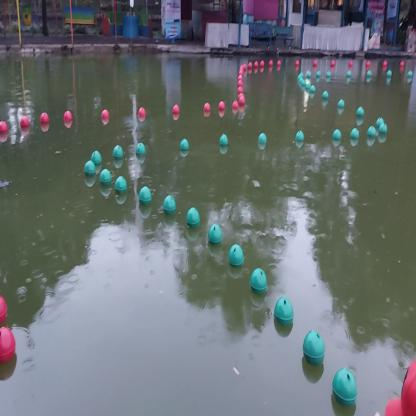green_buoy: (328, 361, 360, 411), (302, 328, 325, 365), (273, 292, 295, 330), (248, 264, 270, 298), (185, 201, 202, 229), (161, 191, 177, 220), (207, 224, 226, 248), (230, 242, 244, 274), (136, 180, 152, 205), (114, 173, 128, 198), (82, 156, 95, 180), (254, 130, 270, 149), (98, 167, 113, 187), (377, 120, 391, 139), (216, 131, 230, 149), (112, 141, 124, 162), (90, 146, 102, 167), (135, 141, 148, 159), (374, 110, 386, 129), (294, 126, 305, 146), (350, 124, 360, 142), (179, 137, 190, 153), (368, 122, 376, 141), (356, 105, 366, 120), (334, 126, 341, 147), (322, 88, 330, 102), (339, 96, 345, 108)
red_buoy: (0, 327, 19, 364), (0, 284, 10, 326), (0, 115, 11, 140), (38, 107, 50, 128), (20, 112, 30, 135), (99, 107, 111, 123), (63, 108, 72, 126), (137, 104, 146, 121), (218, 97, 226, 114), (171, 102, 180, 115), (202, 98, 210, 112), (233, 96, 238, 114), (239, 97, 246, 107)
